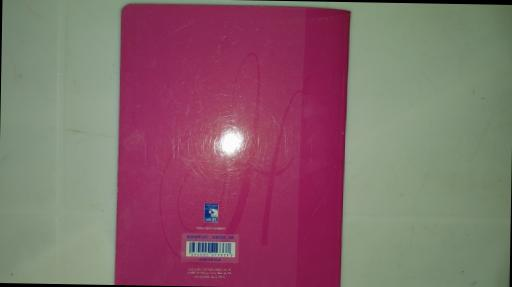notebook: (117, 2, 347, 287)
